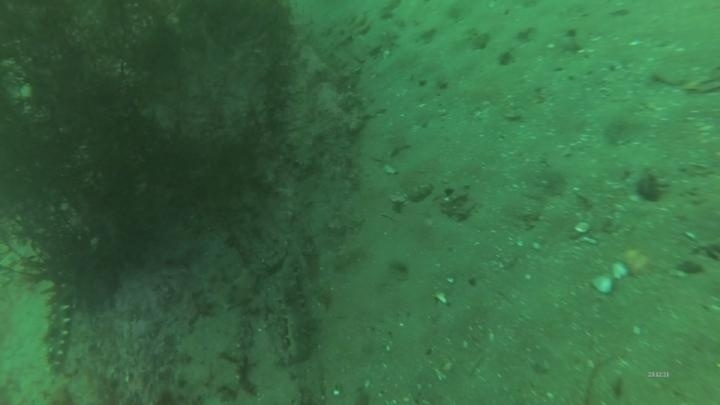holothurian: (273, 249, 320, 367), (39, 291, 75, 378)
